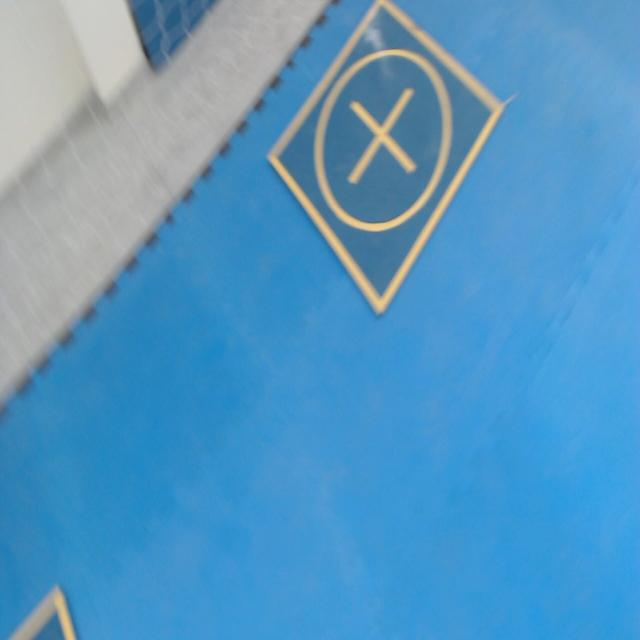base_pouso: (266, 0, 507, 322), (3, 579, 79, 639)
